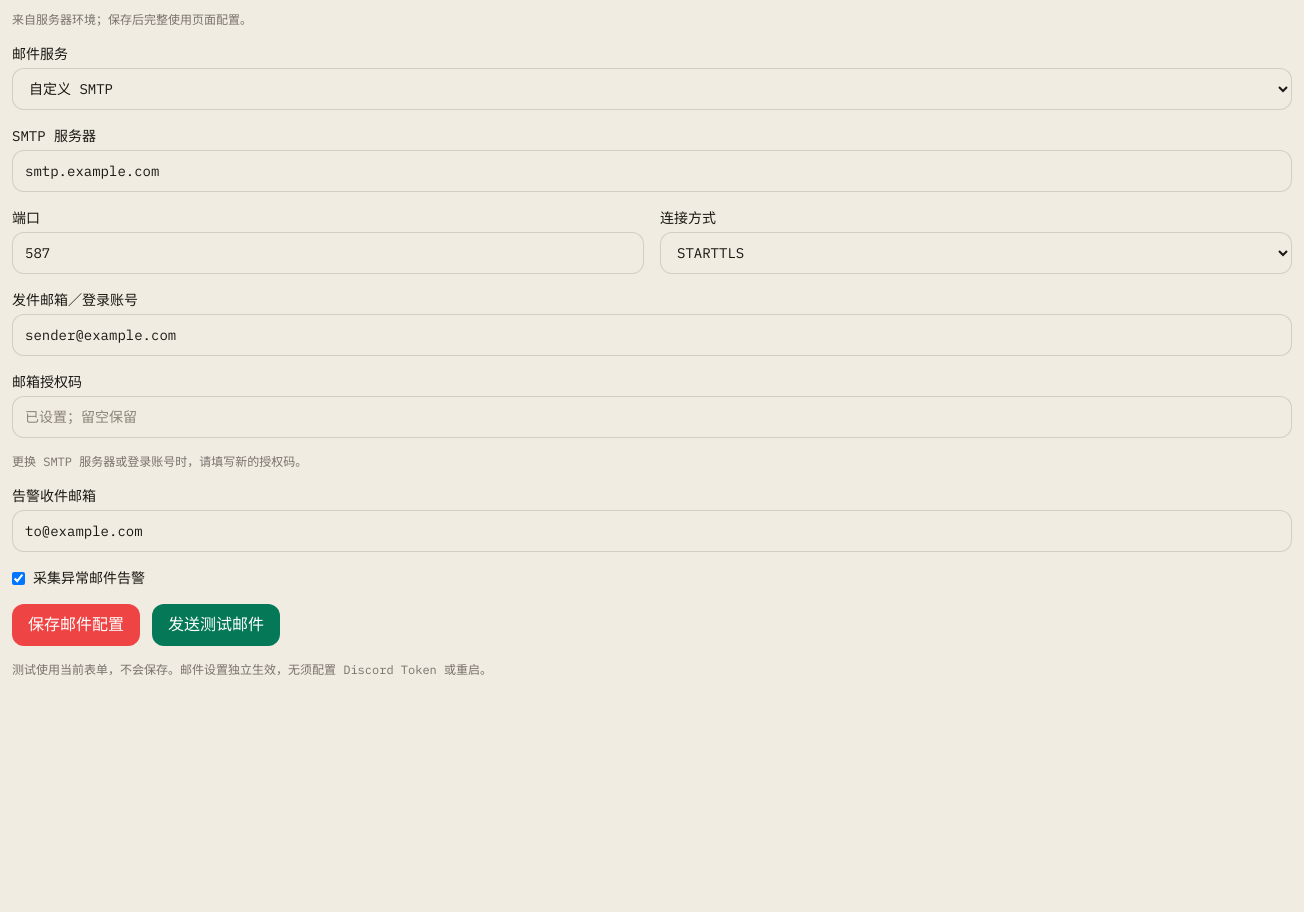
Test case: shows environment origin and retains password by an empty input
The width and height of the screenshot is (1304, 912).
Expected: the text "来自服务器环境；保存后完整使用页面配置。" is shown, [12,12,252,27]
Expected: the password field with placeholder "已设置；留空保留" is empty, [12,396,1292,438]
Select "163 邮箱" in the dropdown labelled "邮件服务": (652, 89) [12,68,1292,110]
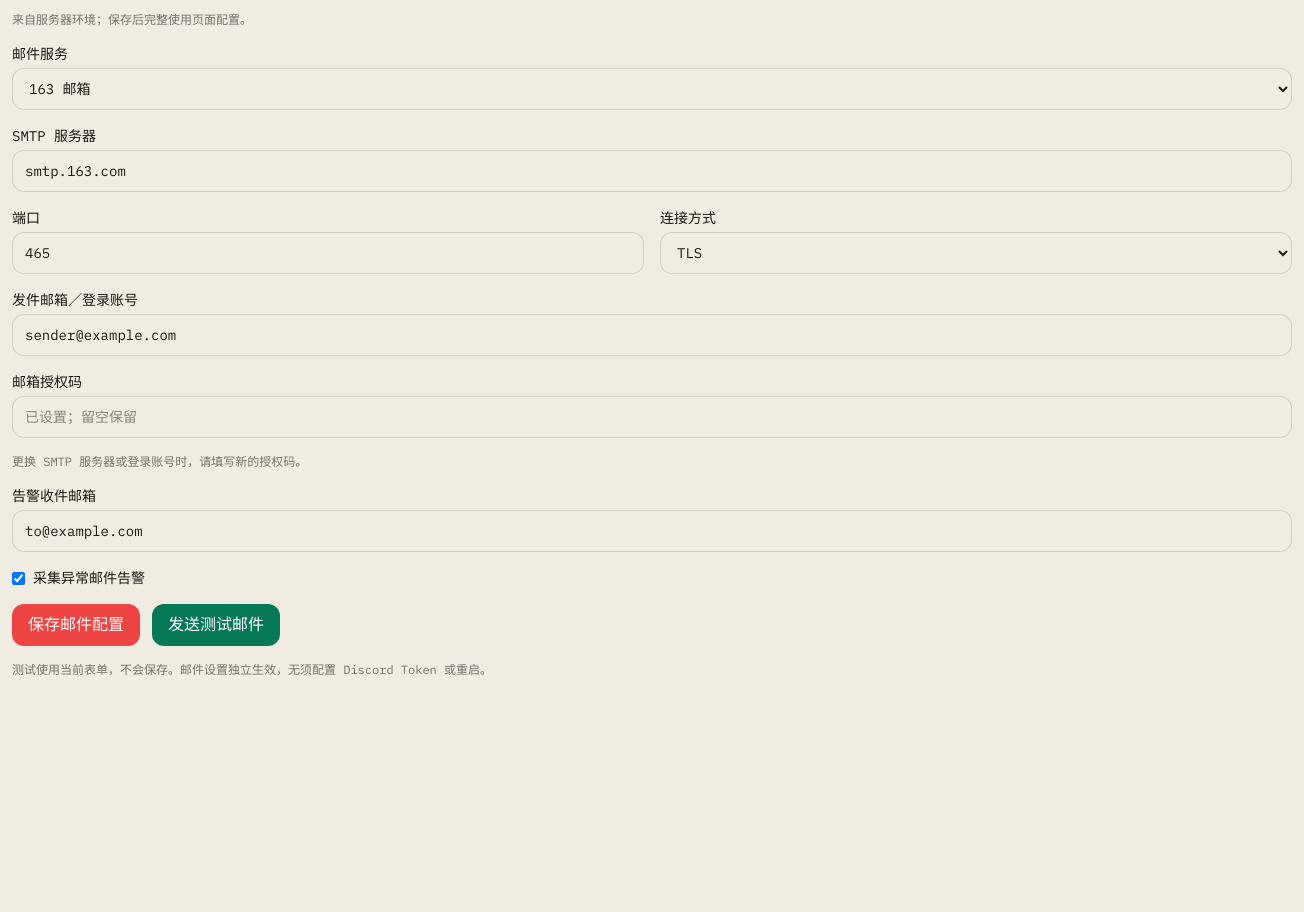
Now the field labelled "SMTP 服务器" holds "smtp.163.com", box [12,150,1292,192]
Now the number field labelled "端口" holds "465", box [12,232,644,274]
Now the dropdown labelled "连接方式" shows "TLS", box [660,232,1292,274]
